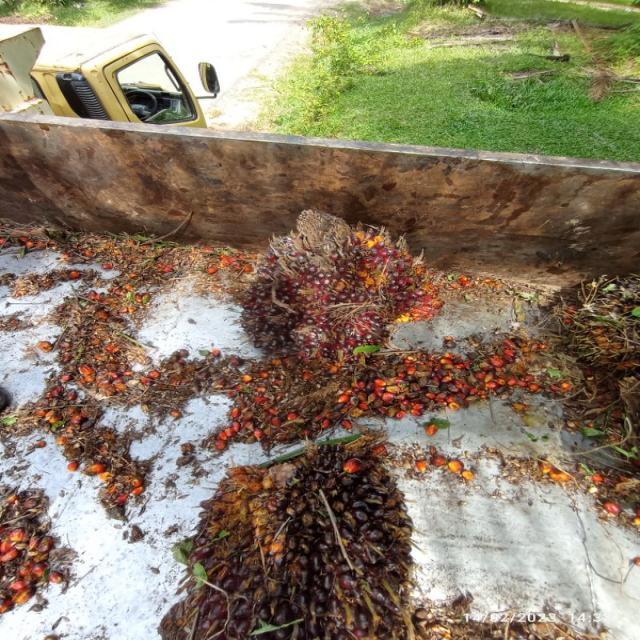fraksi 00: (187, 440, 416, 634)
fraksi 1: (243, 232, 420, 359)
